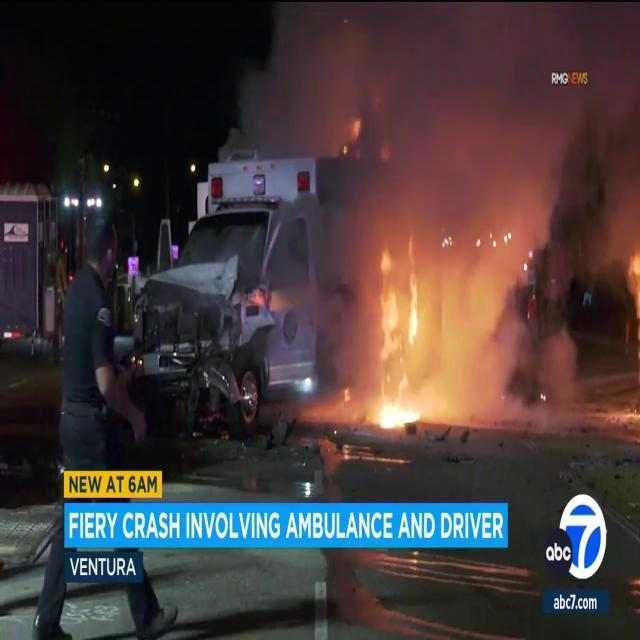Fire: (333, 386, 433, 436)
Smoke: (294, 3, 640, 433)
